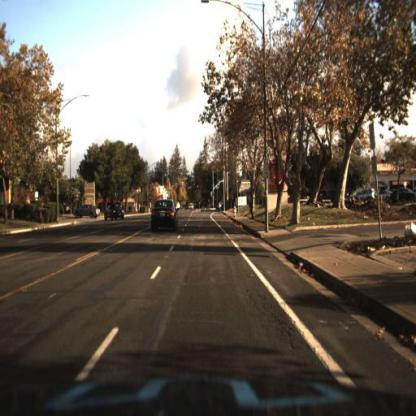car: (151, 195, 180, 231), (103, 204, 126, 220), (75, 203, 99, 218), (392, 189, 416, 203), (354, 189, 378, 201), (374, 191, 395, 203), (216, 203, 226, 211), (190, 205, 195, 210)
pedestrian: (248, 193, 257, 223)
